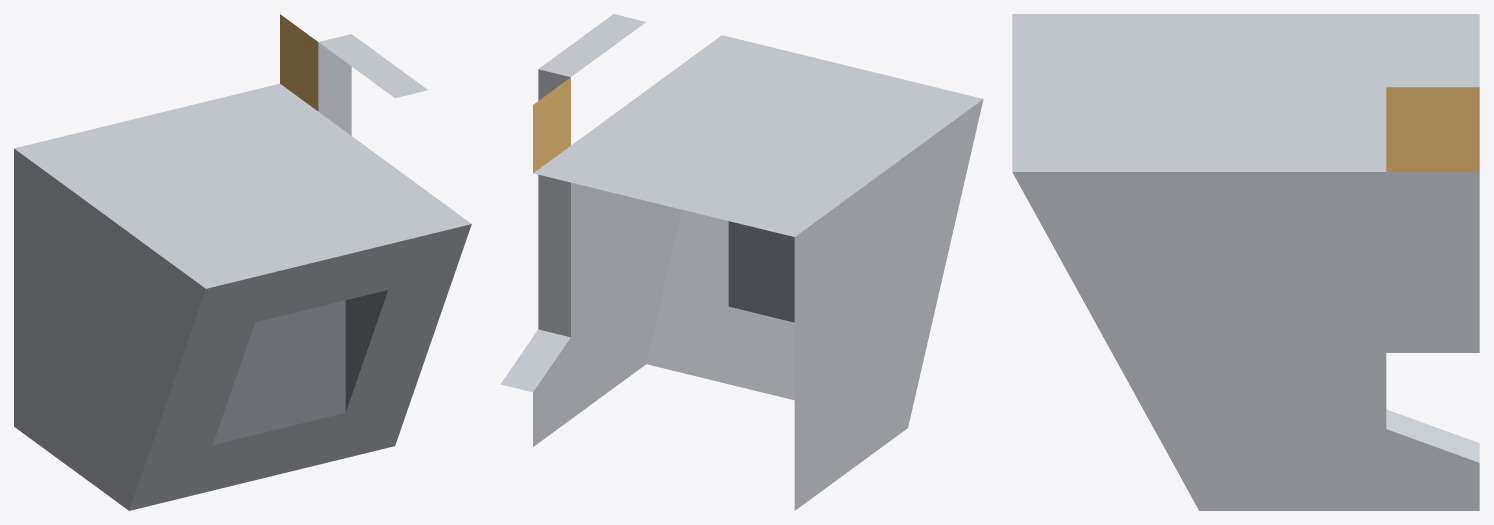
3 views of the same model, side by side, from view 1: azimuth 30°, elevation 25°; view 2: azimuth 150°, elevation 25°; view 3: azimuth 270°, elevation 25° (orthographic). The views are drawn at different scales.
Size of the model in its own units: 0.9 by 1 by 1.
